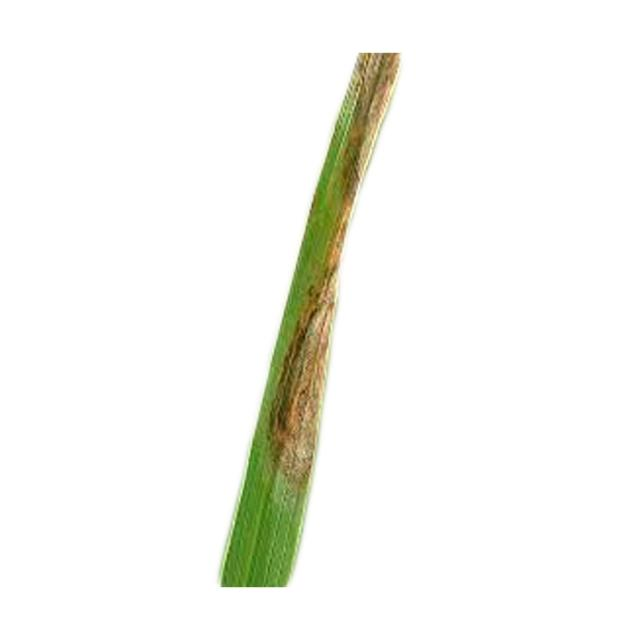Leaf scald: (204, 0, 486, 640)
